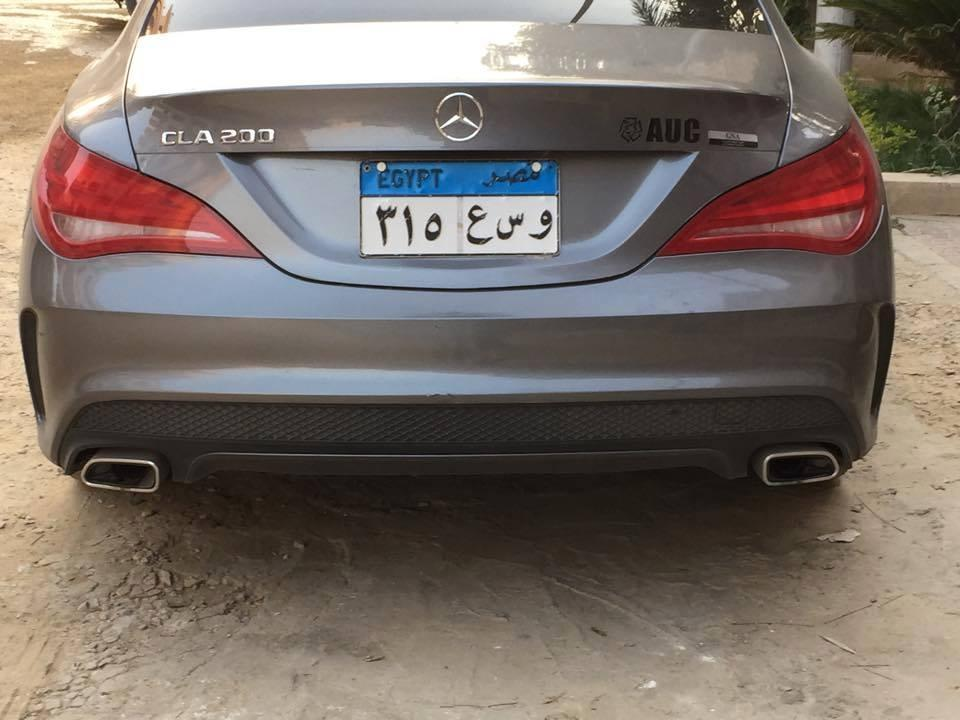1: (401, 203, 418, 249)
3: (375, 203, 399, 246)
5: (421, 204, 444, 245)
Een: (466, 200, 493, 252)
License Plate: (354, 155, 567, 263)
Seen: (495, 210, 525, 243)
Wow: (526, 206, 554, 243)
car: (23, 0, 894, 503)
